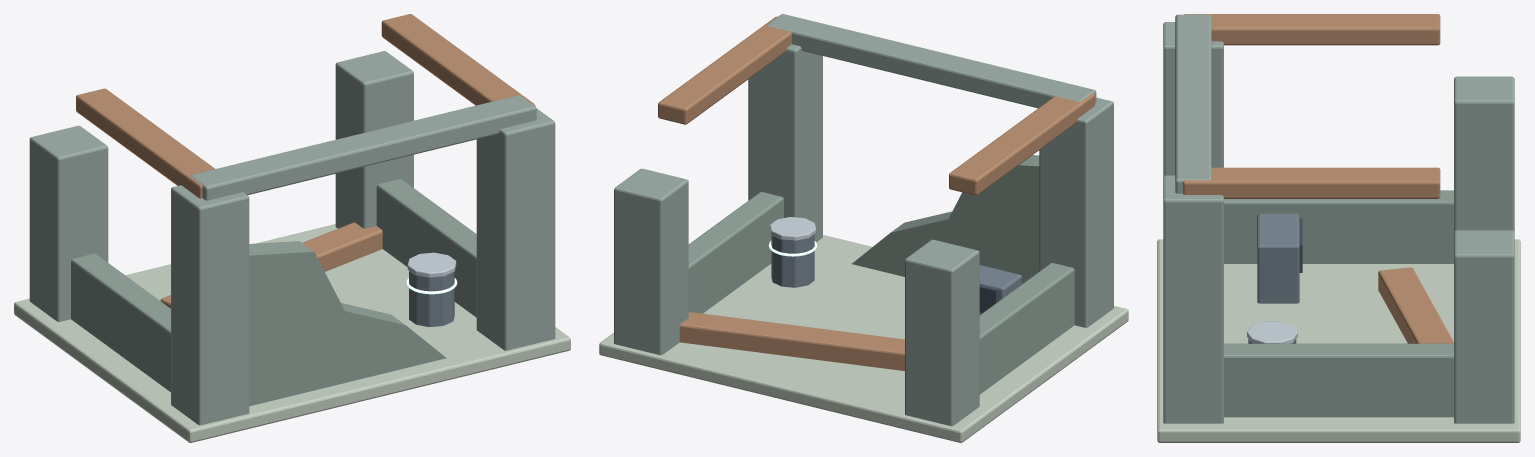
The model's file is golden_relayruins.glb.
The picture shows the model from 3 angles, left to right: view 1: azimuth 30°, elevation 25°; view 2: azimuth 150°, elevation 25°; view 3: azimuth 270°, elevation 25°; orthographic projection. The views are drawn at different scales.
Parts seen in each view (by area): view 1: GS_RelayRuins_Foundation_StoneLight, GS_RelayRuins_BrokenWall_MossRock, GS_RelayRuins_BackPier-1_WeatheredMetal, GS_RelayRuins_BackPier1_WeatheredMetal, GS_RelayRuins_FrontPier-1_WeatheredMetal, GS_RelayRuins_RearHeader_WeatheredMetal, GS_RelayRuins_FrontPier1_WeatheredMetal, GS_RelayRuins_LowWall-1_MossRock, GS_RelayRuins_LowWall1_MossRock, GS_RelayRuins_RoofRail-1_OxideRust, GS_RelayRuins_RoofRail1_OxideRust, GS_RelayRuins_FallenHeader_OxideRust (+2 smaller); view 2: GS_RelayRuins_Foundation_StoneLight, GS_RelayRuins_BackPier-1_WeatheredMetal, GS_RelayRuins_FrontPier-1_WeatheredMetal, GS_RelayRuins_FrontPier1_WeatheredMetal, GS_RelayRuins_BackPier1_WeatheredMetal, GS_RelayRuins_BrokenWall_MossRock, GS_RelayRuins_RearHeader_WeatheredMetal, GS_RelayRuins_LowWall-1_MossRock, GS_RelayRuins_FallenHeader_OxideRust, GS_RelayRuins_LowWall1_MossRock, GS_RelayRuins_RoofRail-1_OxideRust, GS_RelayRuins_RoofRail1_OxideRust (+3 smaller); view 3: GS_RelayRuins_Foundation_StoneLight, GS_RelayRuins_LowWall1_MossRock, GS_RelayRuins_BackPier1_WeatheredMetal, GS_RelayRuins_LowWall-1_MossRock, GS_RelayRuins_FrontPier1_WeatheredMetal, GS_RelayRuins_FrontPier-1_WeatheredMetal, GS_RelayRuins_RoofRail1_OxideRust, GS_RelayRuins_RoofRail-1_OxideRust, GS_RelayRuins_RearHeader_WeatheredMetal, GS_RelayRuins_ControlPlinth_DarkMetal, GS_RelayRuins_BackPier-1_WeatheredMetal, GS_RelayRuins_FallenHeader_OxideRust (+1 smaller).
Part boxes in pixels (<box>): GS_RelayRuins_Foundation_StoneLight: <box>14,224,570,442</box>; GS_RelayRuins_BrokenWall_MossRock: <box>249,241,446,406</box>; GS_RelayRuins_BackPier-1_WeatheredMetal: <box>171,185,249,425</box>; GS_RelayRuins_BackPier1_WeatheredMetal: <box>476,108,555,350</box>; GS_RelayRuins_FrontPier-1_WeatheredMetal: <box>29,125,108,321</box>; GS_RelayRuins_RearHeader_WeatheredMetal: <box>190,95,536,200</box>; GS_RelayRuins_FrontPier1_WeatheredMetal: <box>335,51,413,228</box>; GS_RelayRuins_LowWall-1_MossRock: <box>71,253,170,391</box>; GS_RelayRuins_LowWall1_MossRock: <box>376,179,476,317</box>; GS_RelayRuins_RoofRail-1_OxideRust: <box>76,88,214,198</box>; GS_RelayRuins_RoofRail1_OxideRust: <box>381,14,535,106</box>; GS_RelayRuins_FallenHeader_OxideRust: <box>160,222,382,308</box>; GS_RelayRuins_Foundation_StoneLight: <box>599,235,1128,442</box>; GS_RelayRuins_BackPier-1_WeatheredMetal: <box>1039,97,1113,327</box>; GS_RelayRuins_FrontPier-1_WeatheredMetal: <box>905,239,979,426</box>; GS_RelayRuins_FrontPier1_WeatheredMetal: <box>614,168,688,355</box>; GS_RelayRuins_BackPier1_WeatheredMetal: <box>748,44,822,242</box>; GS_RelayRuins_BrokenWall_MossRock: <box>852,155,1039,283</box>; GS_RelayRuins_RearHeader_WeatheredMetal: <box>767,14,1096,108</box>; GS_RelayRuins_LowWall-1_MossRock: <box>979,263,1074,394</box>; GS_RelayRuins_FallenHeader_OxideRust: <box>679,312,904,370</box>; GS_RelayRuins_LowWall1_MossRock: <box>688,192,783,313</box>; GS_RelayRuins_RoofRail-1_OxideRust: <box>949,93,1094,195</box>; GS_RelayRuins_RoofRail1_OxideRust: <box>658,16,791,124</box>; GS_RelayRuins_Foundation_StoneLight: <box>1157,239,1520,442</box>; GS_RelayRuins_LowWall1_MossRock: <box>1224,343,1453,417</box>; GS_RelayRuins_BackPier1_WeatheredMetal: <box>1163,175,1223,423</box>; GS_RelayRuins_LowWall-1_MossRock: <box>1224,190,1453,263</box>; GS_RelayRuins_FrontPier1_WeatheredMetal: <box>1454,230,1514,423</box>; GS_RelayRuins_FrontPier-1_WeatheredMetal: <box>1454,76,1514,231</box>; GS_RelayRuins_RoofRail1_OxideRust: <box>1183,167,1440,198</box>; GS_RelayRuins_RoofRail-1_OxideRust: <box>1184,14,1440,45</box>; GS_RelayRuins_RearHeader_WeatheredMetal: <box>1175,14,1211,193</box>; GS_RelayRuins_ControlPlinth_DarkMetal: <box>1257,213,1299,303</box>; GS_RelayRuins_BackPier-1_WeatheredMetal: <box>1163,22,1223,176</box>; GS_RelayRuins_FallenHeader_OxideRust: <box>1378,267,1453,343</box>.
Bounding box in the file's own units: 15 × 9.15 × 12.
